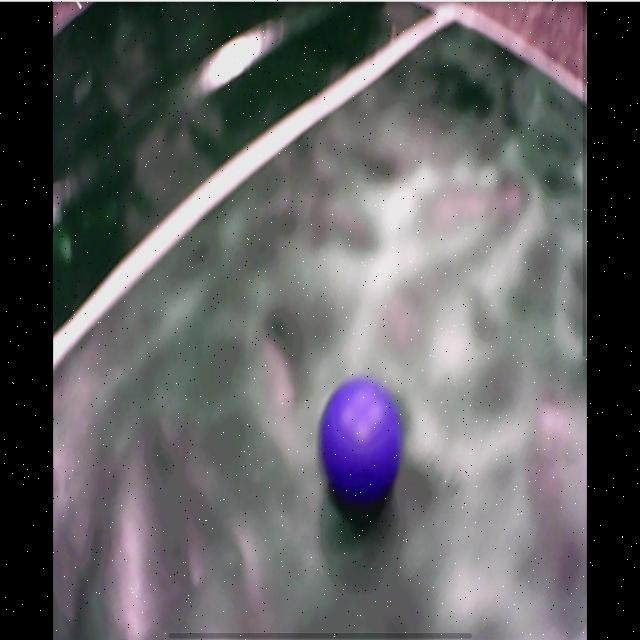ball: (318, 375, 404, 507)
